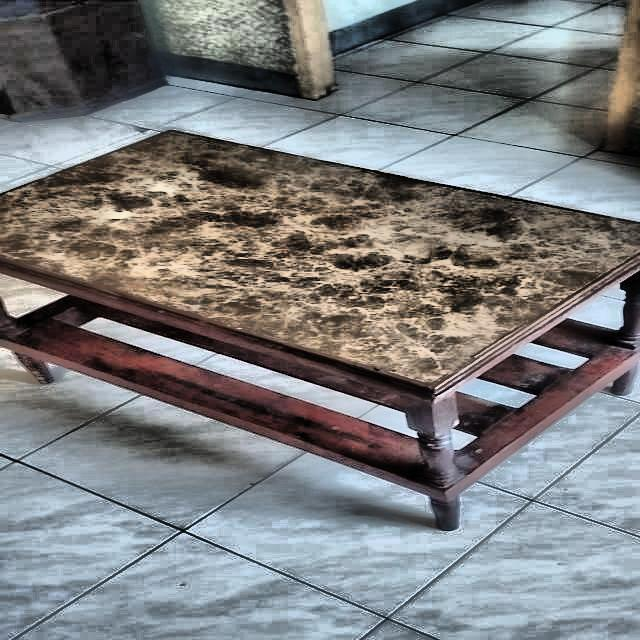mesa: (0, 132, 640, 530)
